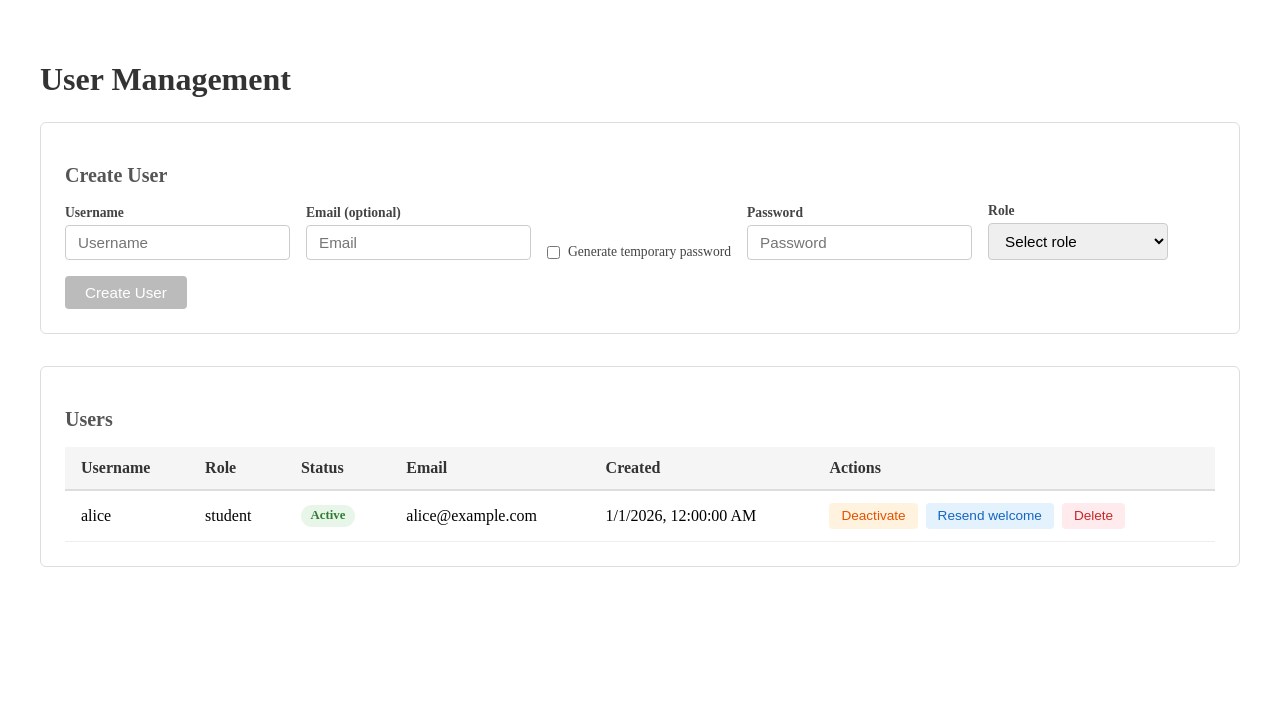
it: UserManagementView › delete button 409 shows correct conflict message
Step 1. Click the button with class "delete-btn" → (1094, 516), box top-left (1062, 503), bottom-right (1125, 529)
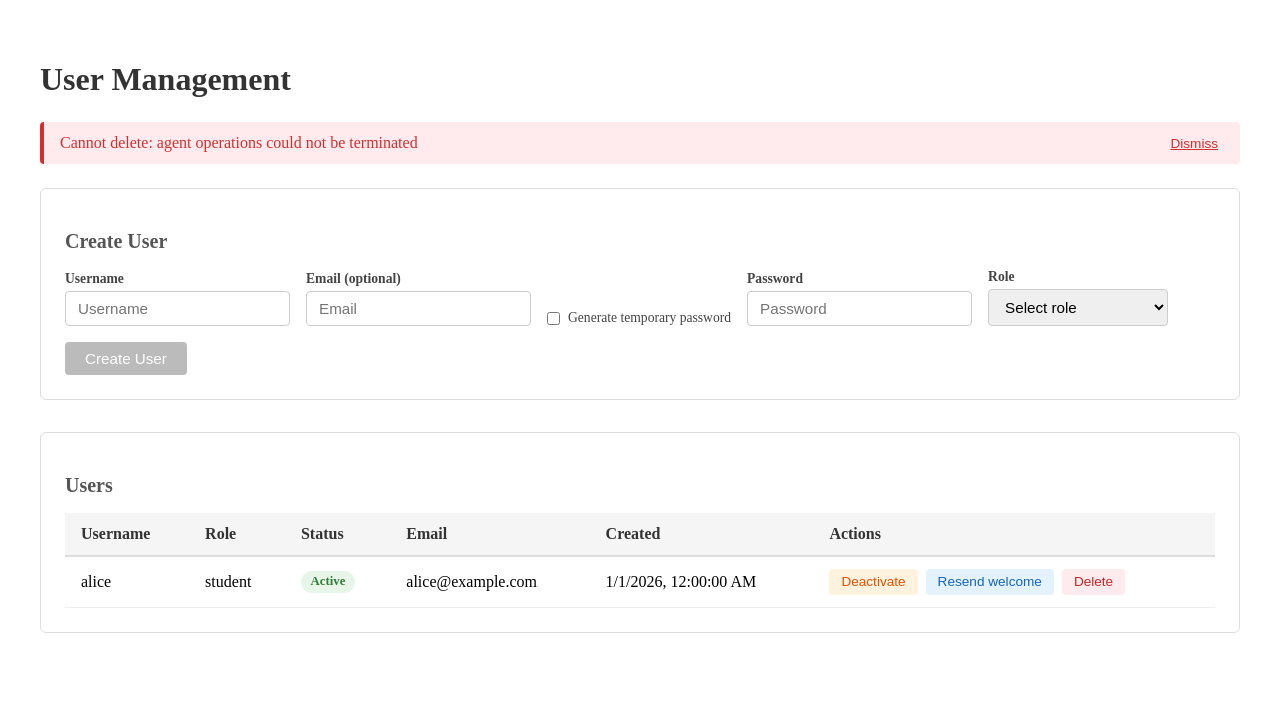
Now the element with test id "error-banner" is shown, box top-left (40, 122), bottom-right (1240, 164)
Now the element with test id "error-banner" shows "Cannot delete: agent operations could not be terminated", box top-left (60, 134), bottom-right (418, 151)
